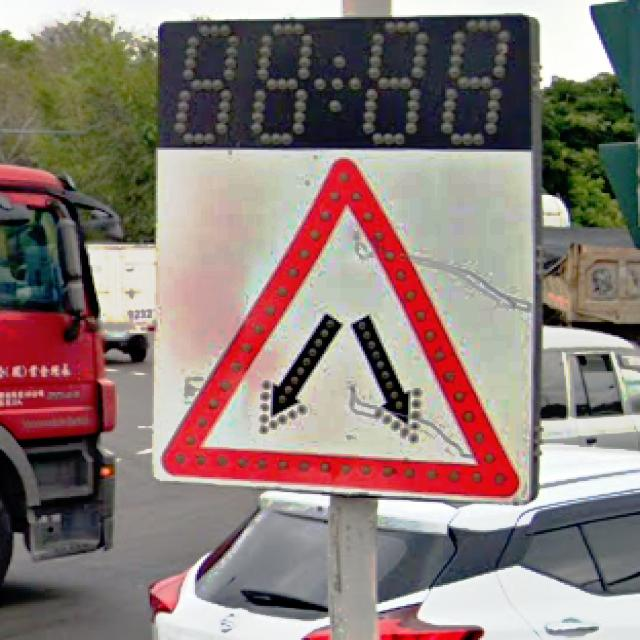diverge: (156, 153, 525, 504)
